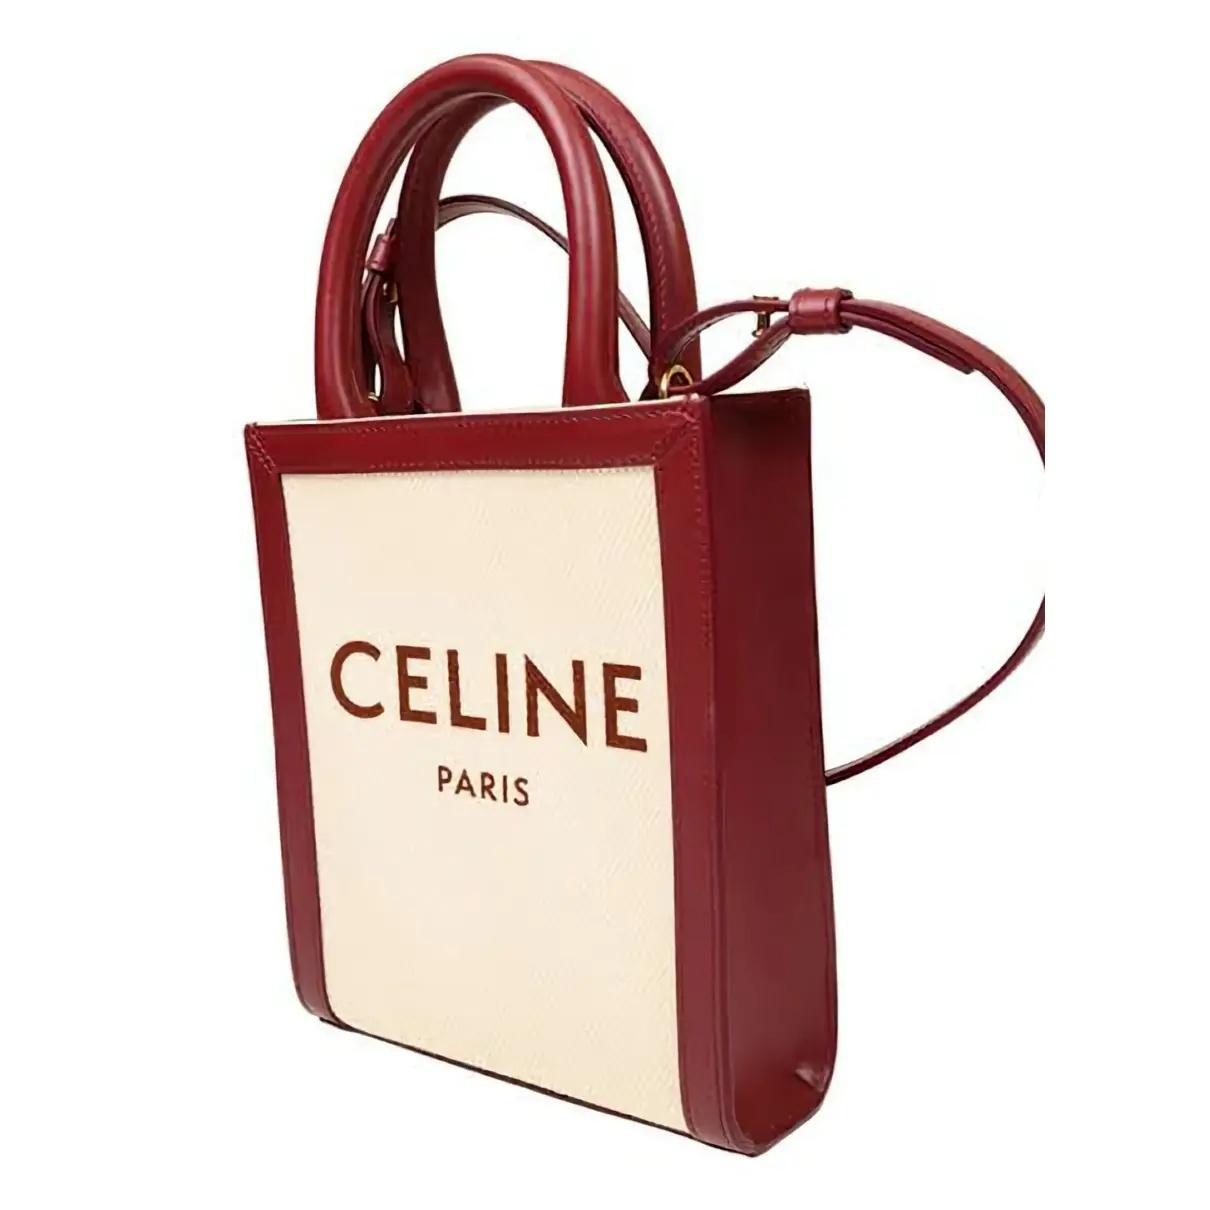CELINE: (328, 637, 645, 757)
